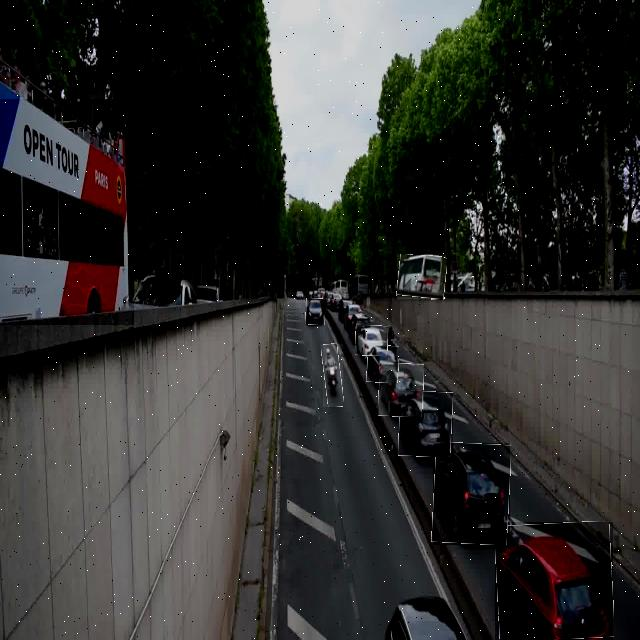Bus: (0, 99, 134, 325), (397, 256, 446, 300)
Car: (495, 522, 613, 640), (433, 443, 510, 545), (399, 391, 453, 456), (379, 363, 424, 416), (366, 344, 398, 382), (355, 326, 388, 356), (306, 299, 325, 325)
Motorcycle: (323, 344, 343, 407)
